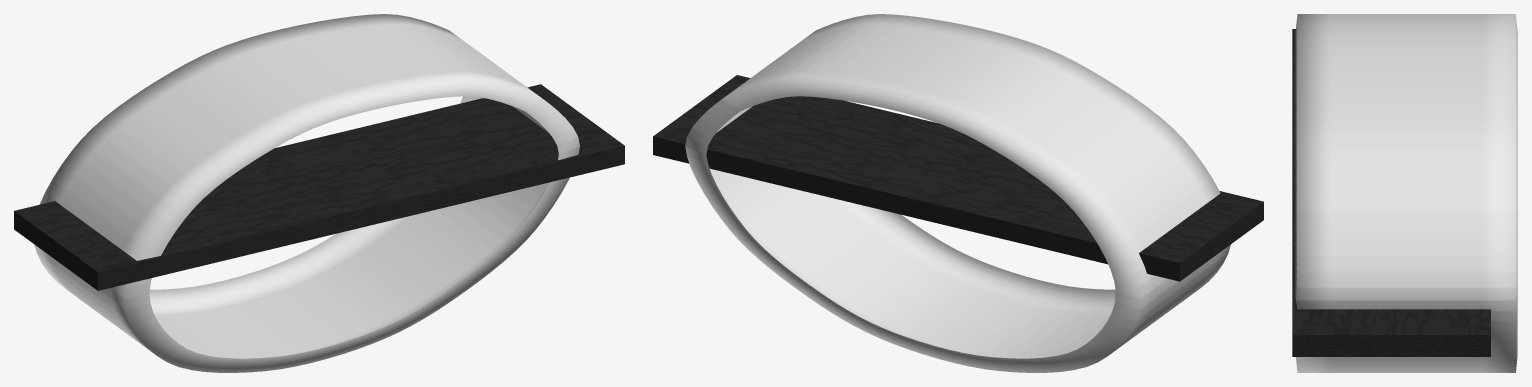
The model's file is half note.FBX.
The picture shows the model from 3 angles, left to right: view 1: azimuth 30°, elevation 25°; view 2: azimuth 150°, elevation 25°; view 3: azimuth 270°, elevation 25°; orthographic projection. The views are drawn at different scales.
Parts seen in each view (by area): view 1: Line01, Box001; view 2: Line01, Box001; view 3: Line01, Box001.
Boxes of the visible parts, <box> form: Line01: <box>34,14,579,372</box>; Box001: <box>14,84,624,290</box>; Line01: <box>685,14,1230,372</box>; Box001: <box>653,75,1263,281</box>; Line01: <box>1295,14,1517,372</box>; Box001: <box>1292,29,1490,356</box>.
Size of the model in its own units: 16.45 by 7.49 by 5.16.
Materials: 1 (1 with a texture image).
